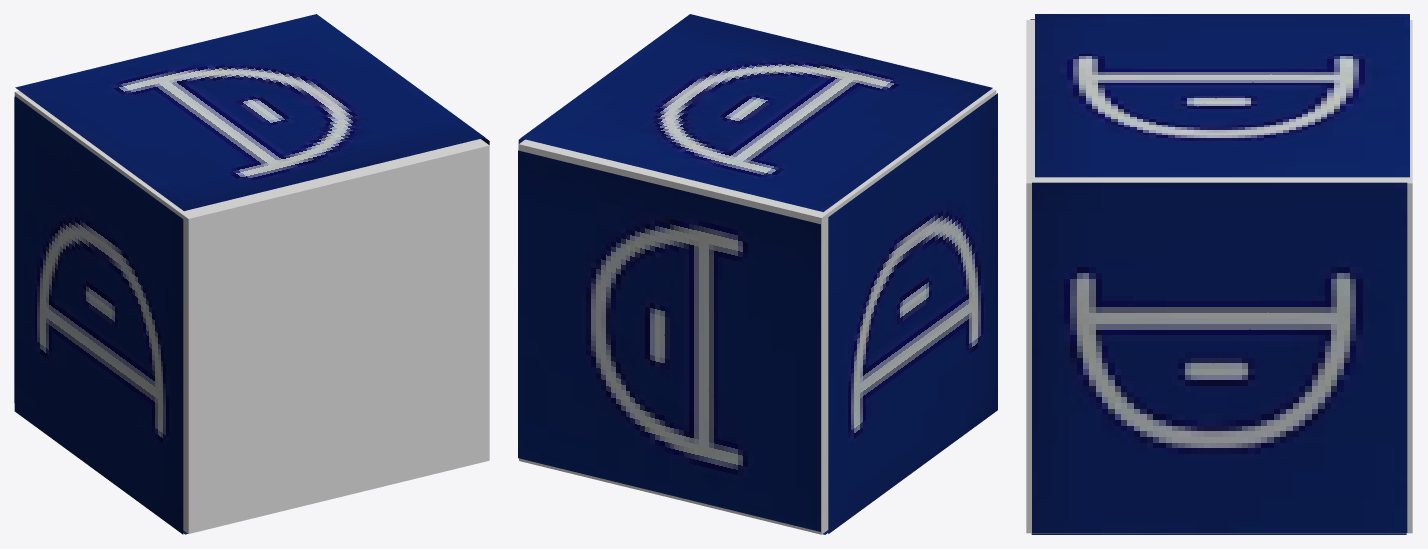
The picture shows the model from 3 angles, left to right: view 1: azimuth 30°, elevation 25°; view 2: azimuth 150°, elevation 25°; view 3: azimuth 270°, elevation 25°; orthographic projection. The views are drawn at different scales.
Visible parts, largest first — view 1: Link25, R1.002, R1.003; view 2: R1.005, R1.002, R1.003, Link25; view 3: R1.004, R1.003, Link25, R1.001.
Part boxes in pixels (x1,y1,x2,y2): Link25: [14, 90, 489, 533]; R1.002: [14, 96, 183, 534]; R1.003: [15, 14, 484, 210]; R1.005: [518, 150, 820, 531]; R1.002: [828, 93, 997, 533]; R1.003: [521, 14, 992, 211]; Link25: [519, 89, 996, 534]; R1.004: [1032, 182, 1407, 532]; R1.003: [1035, 14, 1409, 177]; Link25: [1026, 20, 1412, 533]; R1.001: [1031, 533, 1406, 534].
Size of the model in its own units: 0.3569 by 0.3509 by 0.3578.
Materials: 1 (1 with a texture image).
